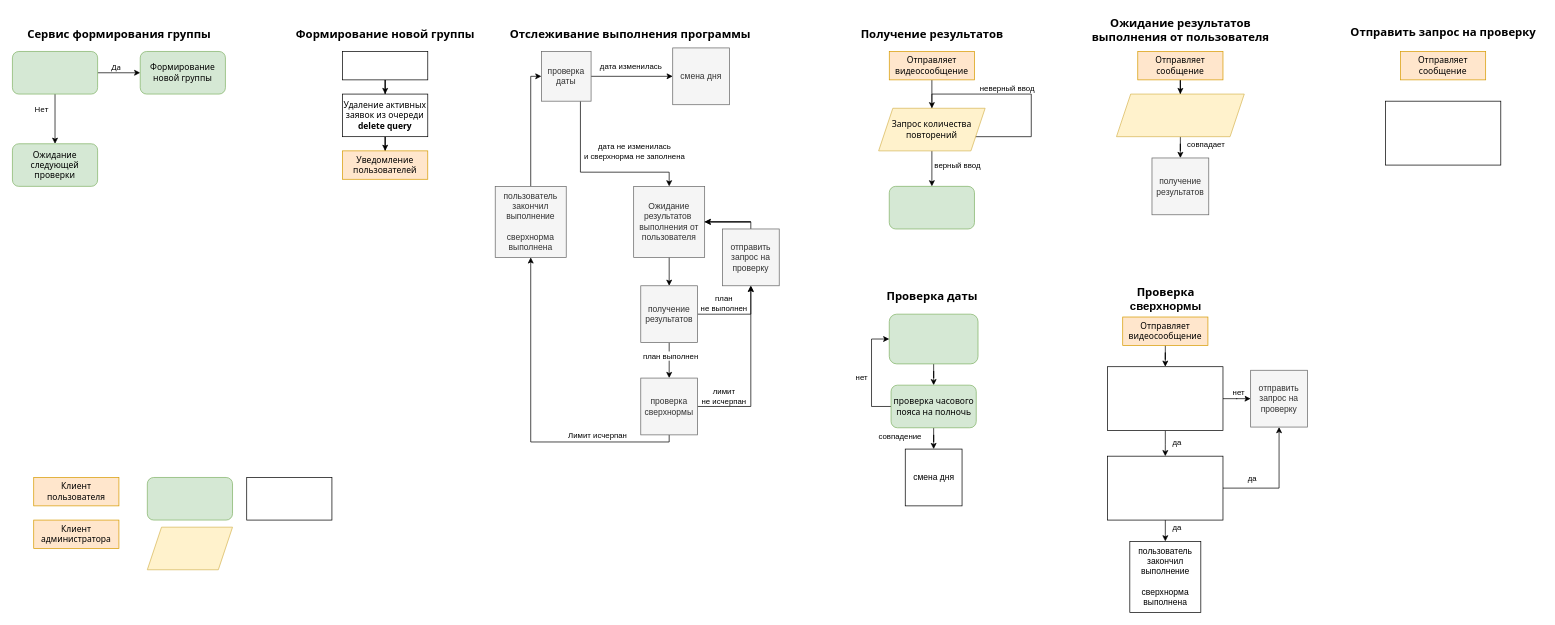
Some shapes in this 1555 by 625 pixel diagram are drawn without their labels. The centre of each missing label's shape, as x and y in pixels:
core: point (190, 498)
handler: point (190, 548)
бд: point (289, 498)
добавляем: point (1443, 132)
каждый час достаются из БД все активные часовые пояса: point (933, 338)
количество уже выполненных повторений > минимального количества select query: point (1165, 398)
общее количество выполненных повторений < максимальной сверхнормы select query: point (1165, 487)
проверка на video_note: point (1180, 115)
Проверка на достаточное количество активных заявок: point (55, 72)
Создание группы insert query: point (385, 65)
Создание новой сущности "Видеосообщение": point (931, 207)
